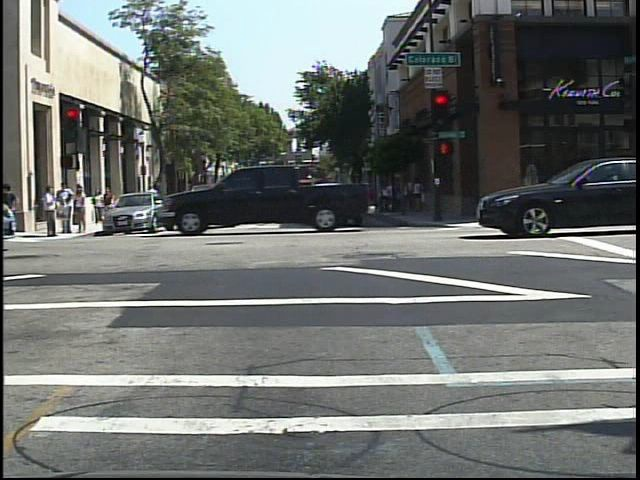person: (145, 180, 164, 220), (92, 186, 107, 227), (144, 180, 159, 216)
